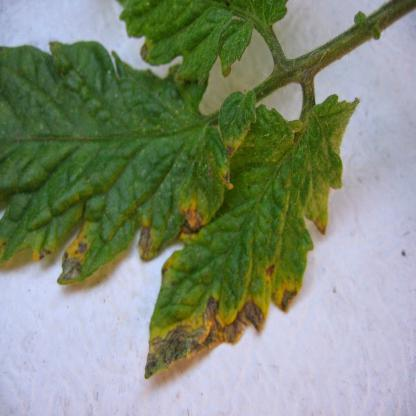tomato septoria leaf spot: (0, 36, 337, 285), (142, 93, 358, 379)
